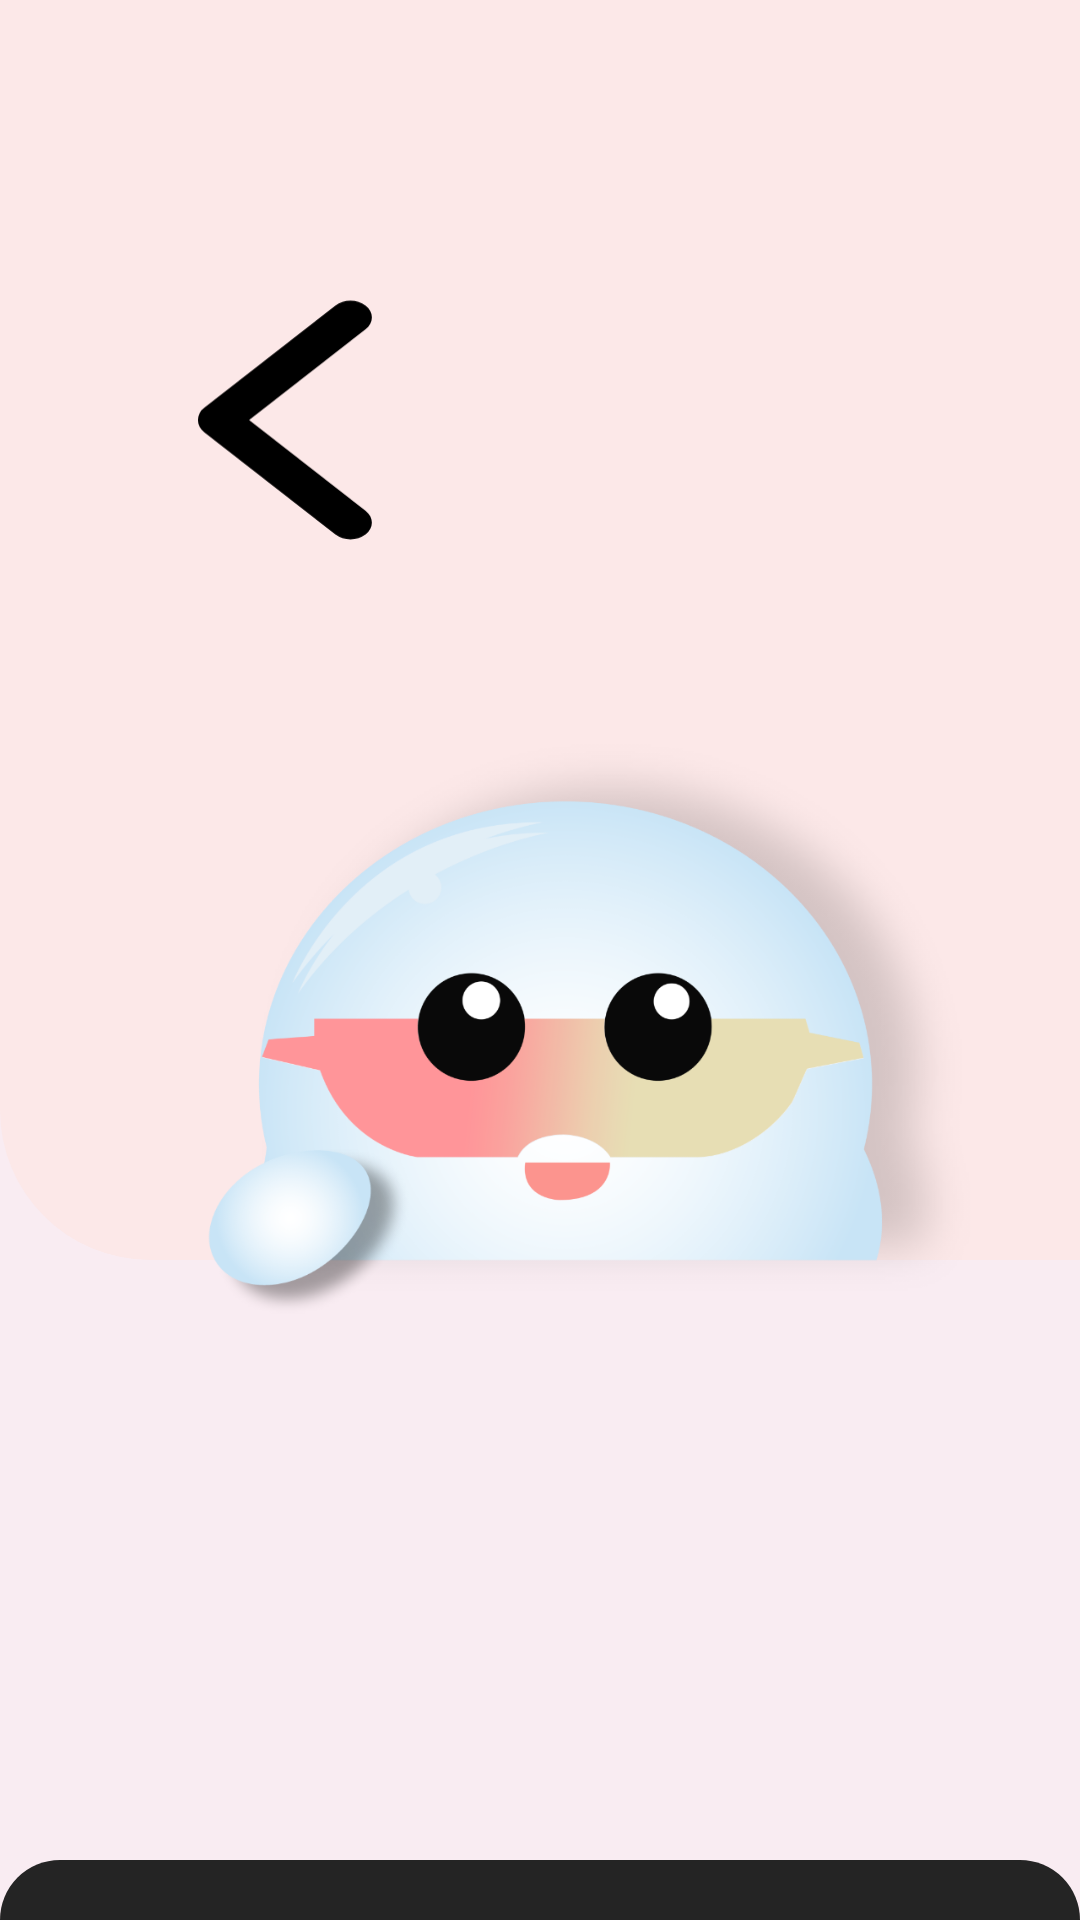

Screen size 1080px×1920px. Icon name, then its center in pixels as [x,y]:
back: [285,420]
